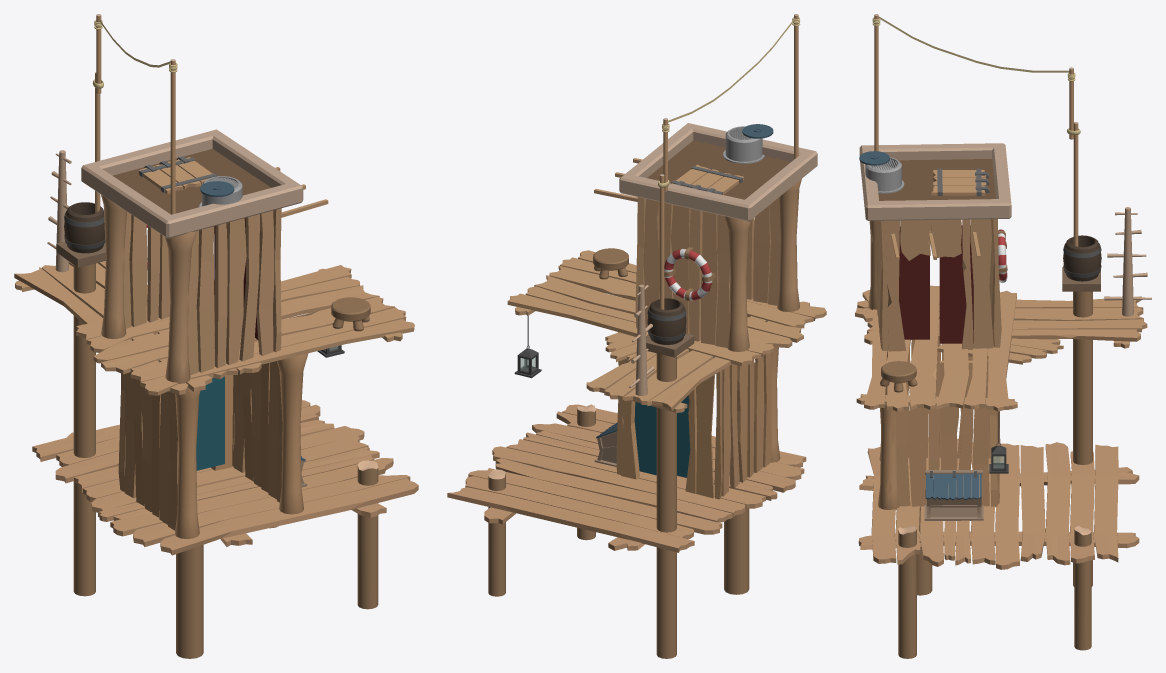
3 views of the same model, side by side, from view 1: azimuth 30°, elevation 25°; view 2: azimuth 150°, elevation 25°; view 3: azimuth 270°, elevation 25° (orthographic). The views are drawn at different scales.
Parts seen in each view (by area): view 1: Huts002, Hut001, FirstFloor3, SecondFloor, Roof, PierSupport, Curtains001, polySurface13, Barrel, Hatch, Ladder, pCylinder6 (+2 smaller); view 2: FirstFloor3, Huts002, SecondFloor, Hut001, PierSupport, Roof, Curtains001, polySurface13, Barrel, LifePreserve, Ladder, Hatch (+5 smaller); view 3: FirstFloor3, SecondFloor, Huts002, Hut001, Roof, PierSupport, Curtains002, Chest, polySurface13, Barrel, Ladder, Hatch (+5 smaller).
Part boxes in pixels (<box>): Huts002: <box>101,194,281,383</box>; Hut001: <box>118,353,308,539</box>; FirstFloor3: <box>32,400,418,555</box>; SecondFloor: <box>14,261,414,395</box>; Roof: <box>81,129,303,238</box>; PierSupport: <box>73,263,378,658</box>; Curtains001: <box>196,376,224,470</box>; polySurface13: <box>92,14,177,214</box>; Barrel: <box>64,202,105,253</box>; Hatch: <box>138,156,217,194</box>; Ladder: <box>47,150,71,272</box>; pCylinder6: <box>331,297,370,331</box>; FirstFloor3: <box>447,404,806,552</box>; Huts002: <box>635,179,801,351</box>; SecondFloor: <box>507,250,826,412</box>; Hut001: <box>616,332,780,499</box>; PierSupport: <box>488,353,749,658</box>; Roof: <box>619,123,817,221</box>; Curtains001: <box>634,395,690,477</box>; polySurface13: <box>658,14,800,309</box>; Barrel: <box>647,298,686,344</box>; LifePreserve: <box>664,247,715,301</box>; Ladder: <box>629,284,654,395</box>; Hatch: <box>671,164,743,194</box>; FirstFloor3: <box>858,437,1139,569</box>; SecondFloor: <box>855,285,1147,411</box>; Huts002: <box>868,219,1001,351</box>; Hut001: <box>878,340,1000,510</box>; Roof: <box>859,143,1011,220</box>; PierSupport: <box>898,291,1092,658</box>; Curtains002: <box>899,225,973,343</box>; Chest: <box>924,470,983,520</box>; polySurface13: <box>872,14,1080,246</box>; Barrel: <box>1063,235,1101,281</box>; Ladder: <box>1104,207,1151,316</box>; Hatch: <box>931,168,989,196</box>.
Bounding box in the file's own units: 1045 × 2081 × 1003.
